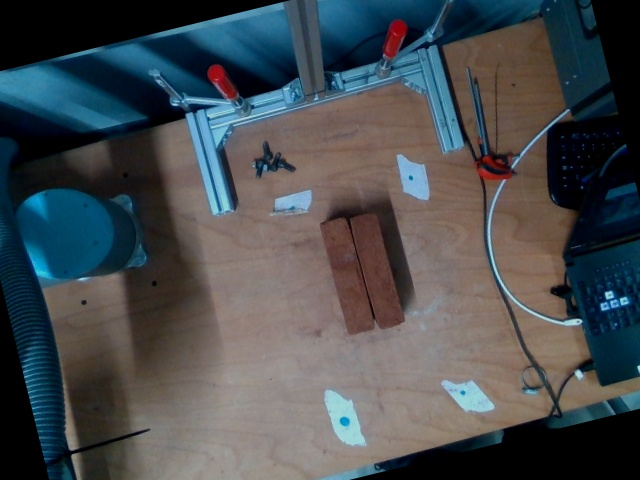brick-side: (320, 217, 373, 333), (351, 213, 403, 329)
